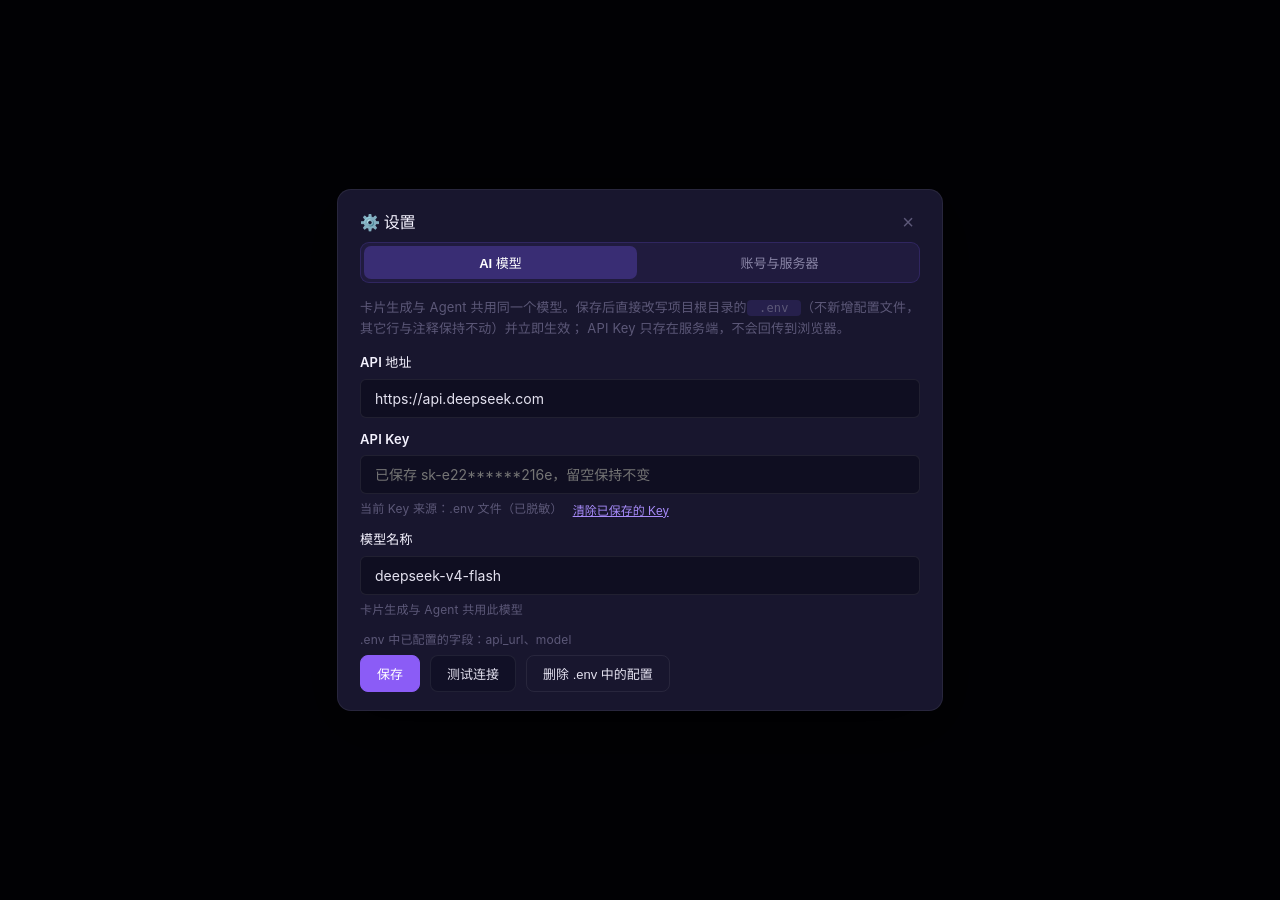
ApiSettingsModal › 测试连接发 POST 并展示结果
Expected: the field showing "https://api.deepseek.com" is shown, top-left (360, 379), bottom-right (920, 418)
Click the button "测试连接" at (473, 673), box top-left (430, 655), bottom-right (516, 692)
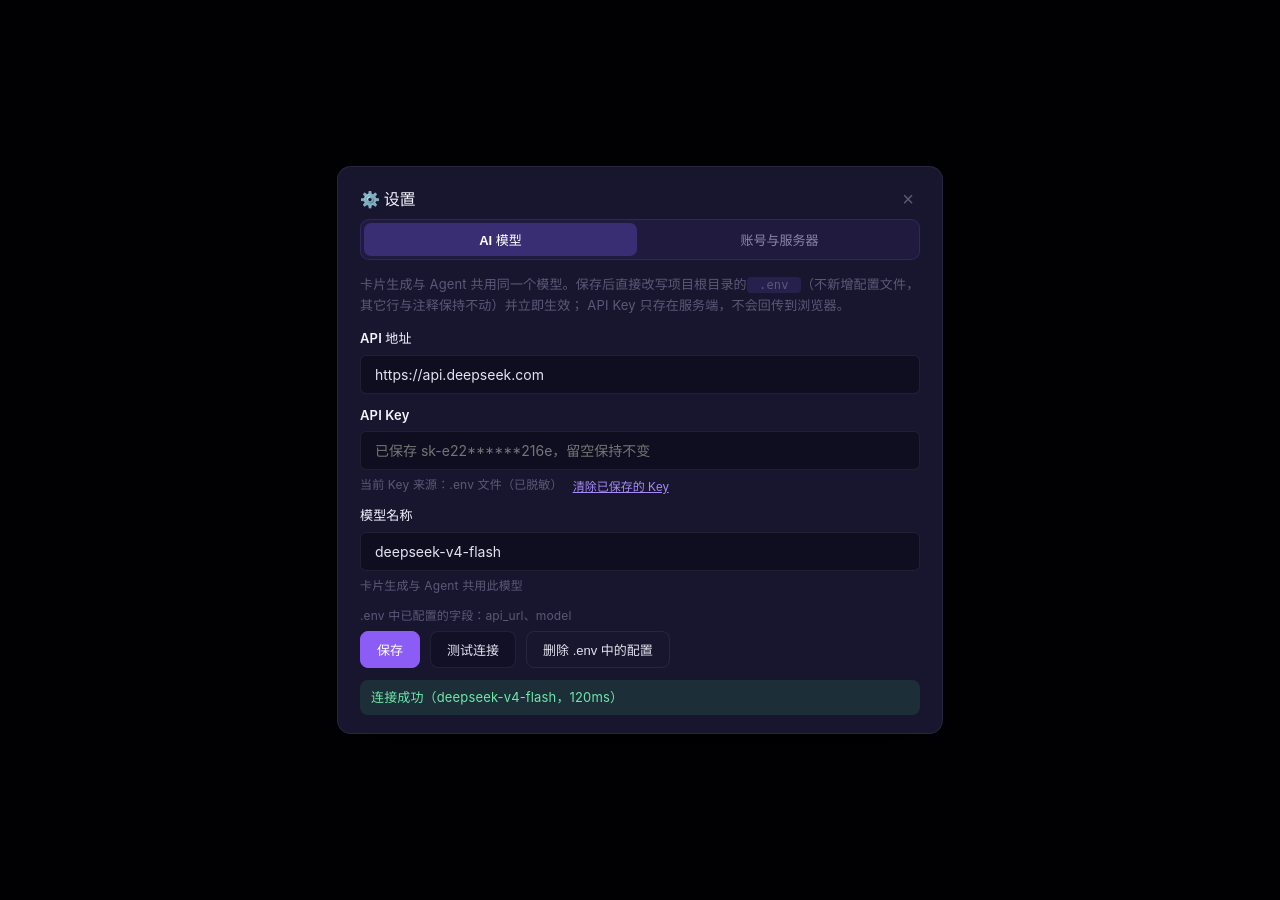
Result: the text "连接成功（deepseek-v4-flash，120ms）" is shown at top-left (360, 680), bottom-right (920, 716)
